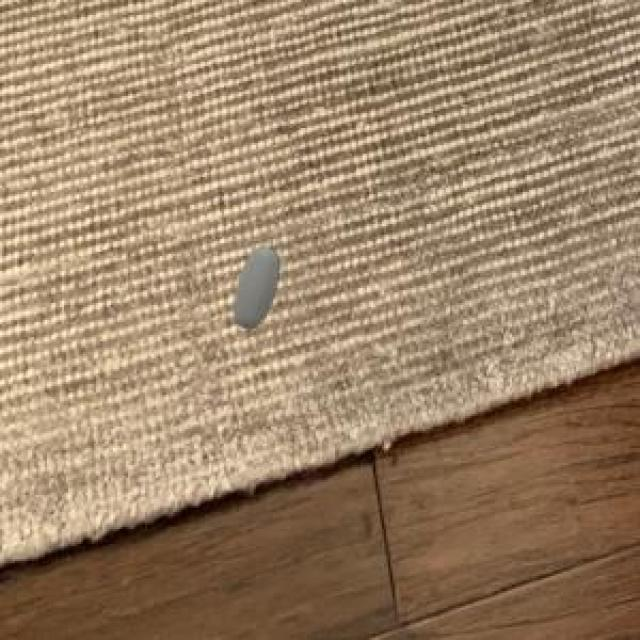Neozep: (217, 236, 291, 350)
